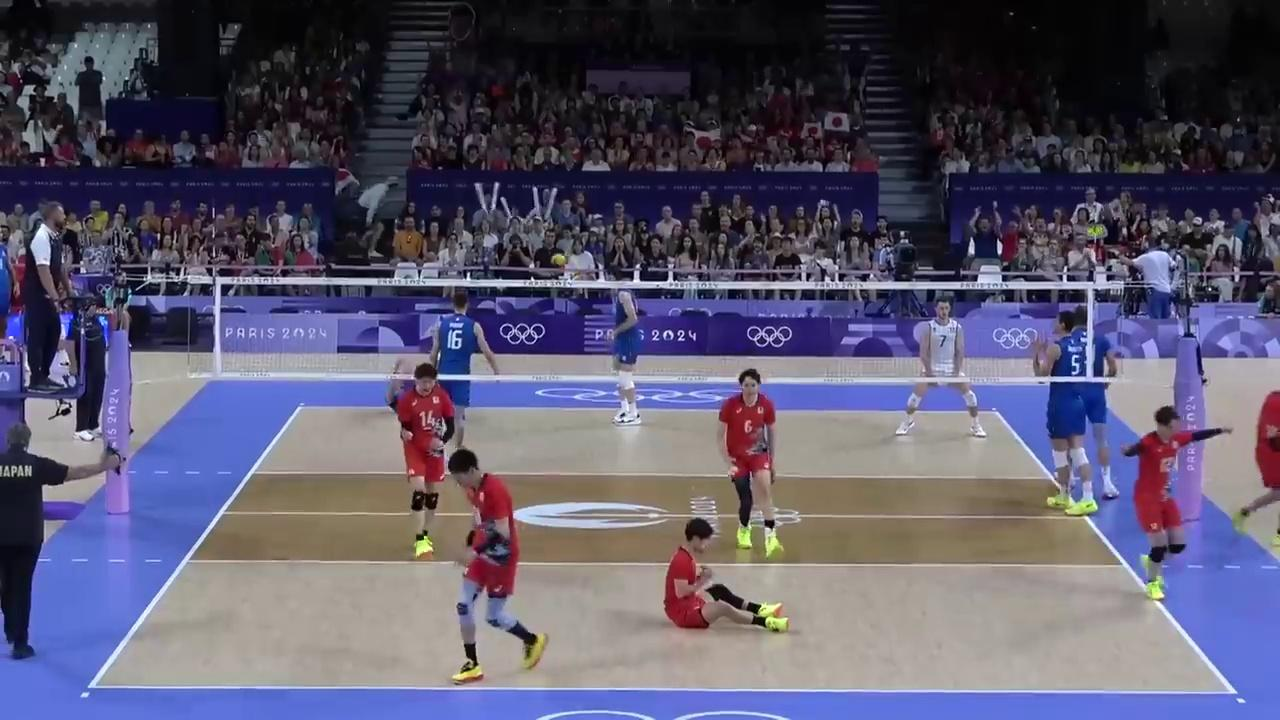ball: (553, 253, 566, 265)
